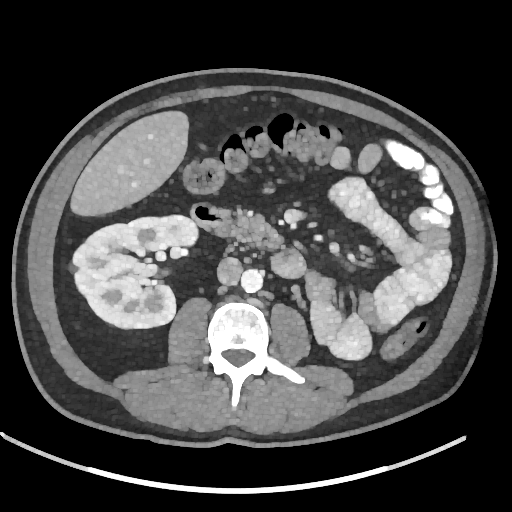Lesion: (63, 259, 82, 278)
